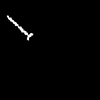half_double_crochet: (7, 16, 32, 39)
